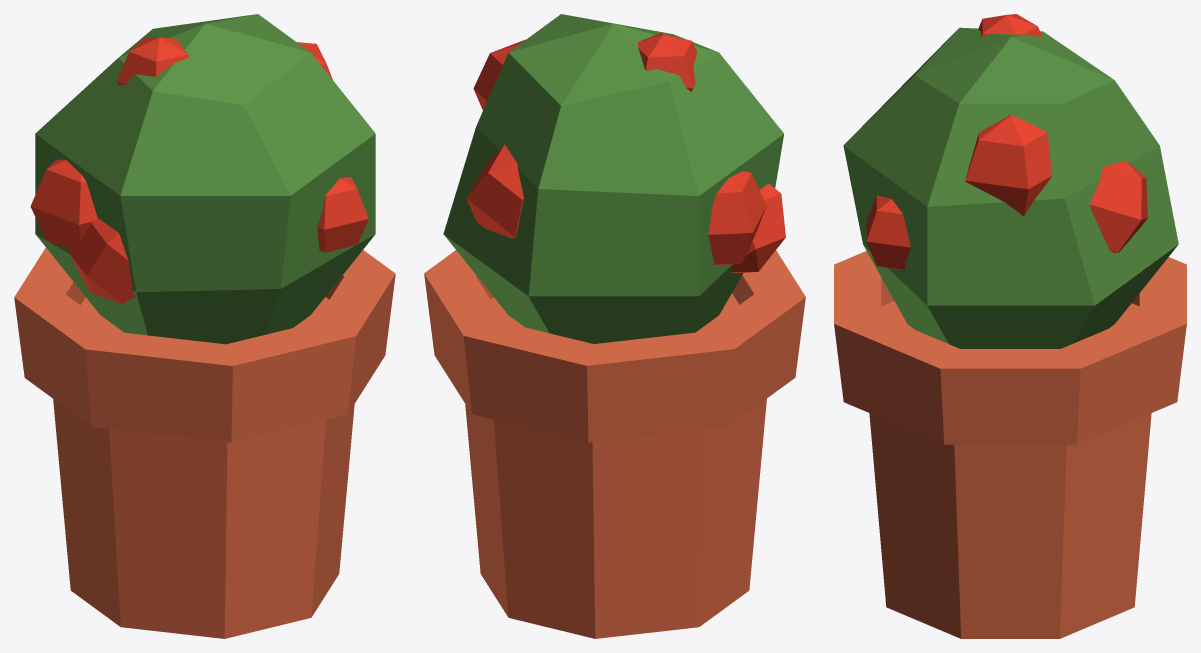
The model's file is ruukku.glb.
3 views of the same model, side by side, from view 1: azimuth 30°, elevation 25°; view 2: azimuth 150°, elevation 25°; view 3: azimuth 270°, elevation 25° (orthographic).
Visible parts, largest first — view 1: Cube.001; view 2: Cube.001; view 3: Cube.001.
Boxes of the visible parts, left/top/right/bottom form: Cube.001: left=14, top=14, right=395, bottom=638; Cube.001: left=424, top=14, right=805, bottom=638; Cube.001: left=834, top=14, right=1186, bottom=638.
Size of the model in its own units: 0.8942 by 1.53 by 0.8913.
